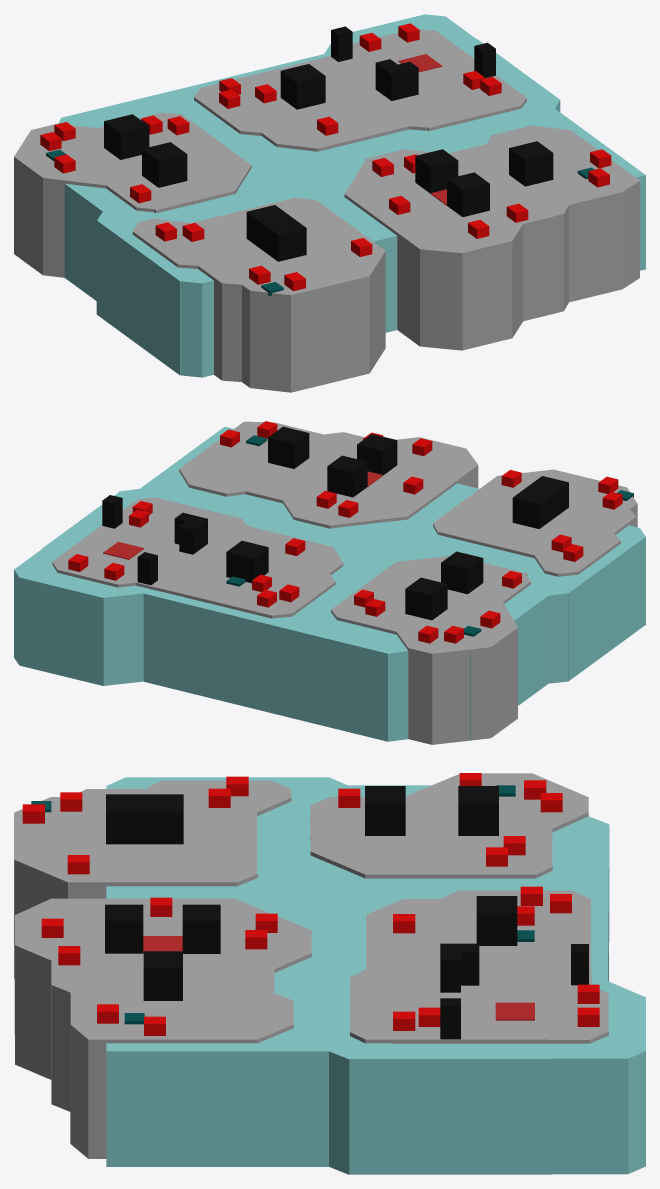
File: Room3_FRScale.fbx
3 renders of one model, top to bottom at view 1: azimuth 30°, elevation 25°; view 2: azimuth 150°, elevation 25°; view 3: azimuth 270°, elevation 25°, orthographic. The views are drawn at different scales.
Parts seen in each view (by area): view 1: Ice37, Floor56, Ice39, Floor54, Floor53, Floor45, Floor57, Floor47, Floor37, Ice36, Floor32, Floor50 (+32 smaller); view 2: Ice40, Ice37, Floor45, Ice43, Ice39, Floor56, Floor37, Floor32, Ice38, Ice41, Floor53, Floor54 (+33 smaller); view 3: Ice37, Ice39, Ice42, Floor56, Floor37, Floor46, Floor32, Floor52, Floor41, Ice38, Floor55, Ice40 (+36 smaller).
Boxes of the visible parts, bbox=[...] form: Ice37: bbox=[96, 108, 637, 374]; Floor56: bbox=[192, 198, 369, 392]; Ice39: bbox=[64, 39, 559, 300]; Floor54: bbox=[344, 176, 462, 350]; Floor53: bbox=[356, 159, 512, 350]; Floor45: bbox=[14, 130, 106, 277]; Floor57: bbox=[153, 218, 290, 392]; Floor47: bbox=[491, 125, 621, 298]; Floor37: bbox=[234, 59, 409, 151]; Ice36: bbox=[180, 169, 645, 377]; Floor32: bbox=[352, 32, 520, 124]; Floor50: bbox=[449, 147, 563, 317]; Ice40: bbox=[143, 589, 408, 741]; Ice37: bbox=[140, 432, 645, 681]; Floor45: bbox=[432, 602, 517, 744]; Ice43: bbox=[19, 551, 117, 685]; Ice39: bbox=[42, 491, 548, 740]; Floor56: bbox=[438, 469, 626, 558]; Floor37: bbox=[161, 526, 332, 612]; Floor32: bbox=[57, 497, 216, 587]; Ice38: bbox=[119, 489, 567, 683]; Ice41: bbox=[104, 585, 149, 685]; Floor53: bbox=[330, 437, 465, 528]; Floor54: bbox=[368, 449, 478, 523]; Ice37: bbox=[125, 777, 329, 1166]; Ice39: bbox=[348, 785, 552, 1174]; Ice42: bbox=[551, 1051, 645, 1174]; Floor56: bbox=[14, 812, 256, 979]; Floor37: bbox=[366, 914, 590, 969]; Floor46: bbox=[70, 1024, 293, 1158]; Floor32: bbox=[350, 992, 608, 1035]; Floor52: bbox=[15, 930, 311, 1079]; Floor41: bbox=[310, 825, 552, 866]; Ice38: bbox=[329, 777, 349, 1174]; Floor55: bbox=[14, 859, 257, 914]; Ice40: bbox=[551, 816, 609, 981].
Bounding box in the file's own units: 54.54 × 13.72 × 51.6.
